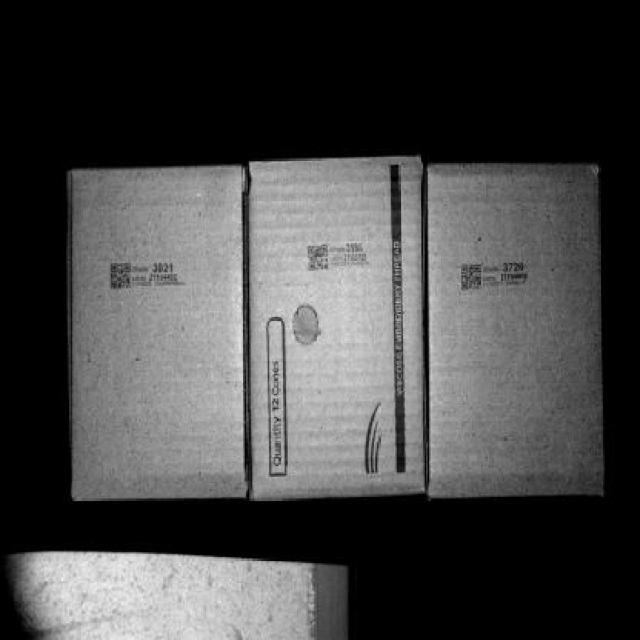cardboxes: (256, 169, 429, 500), (433, 164, 605, 490), (73, 170, 245, 492)
